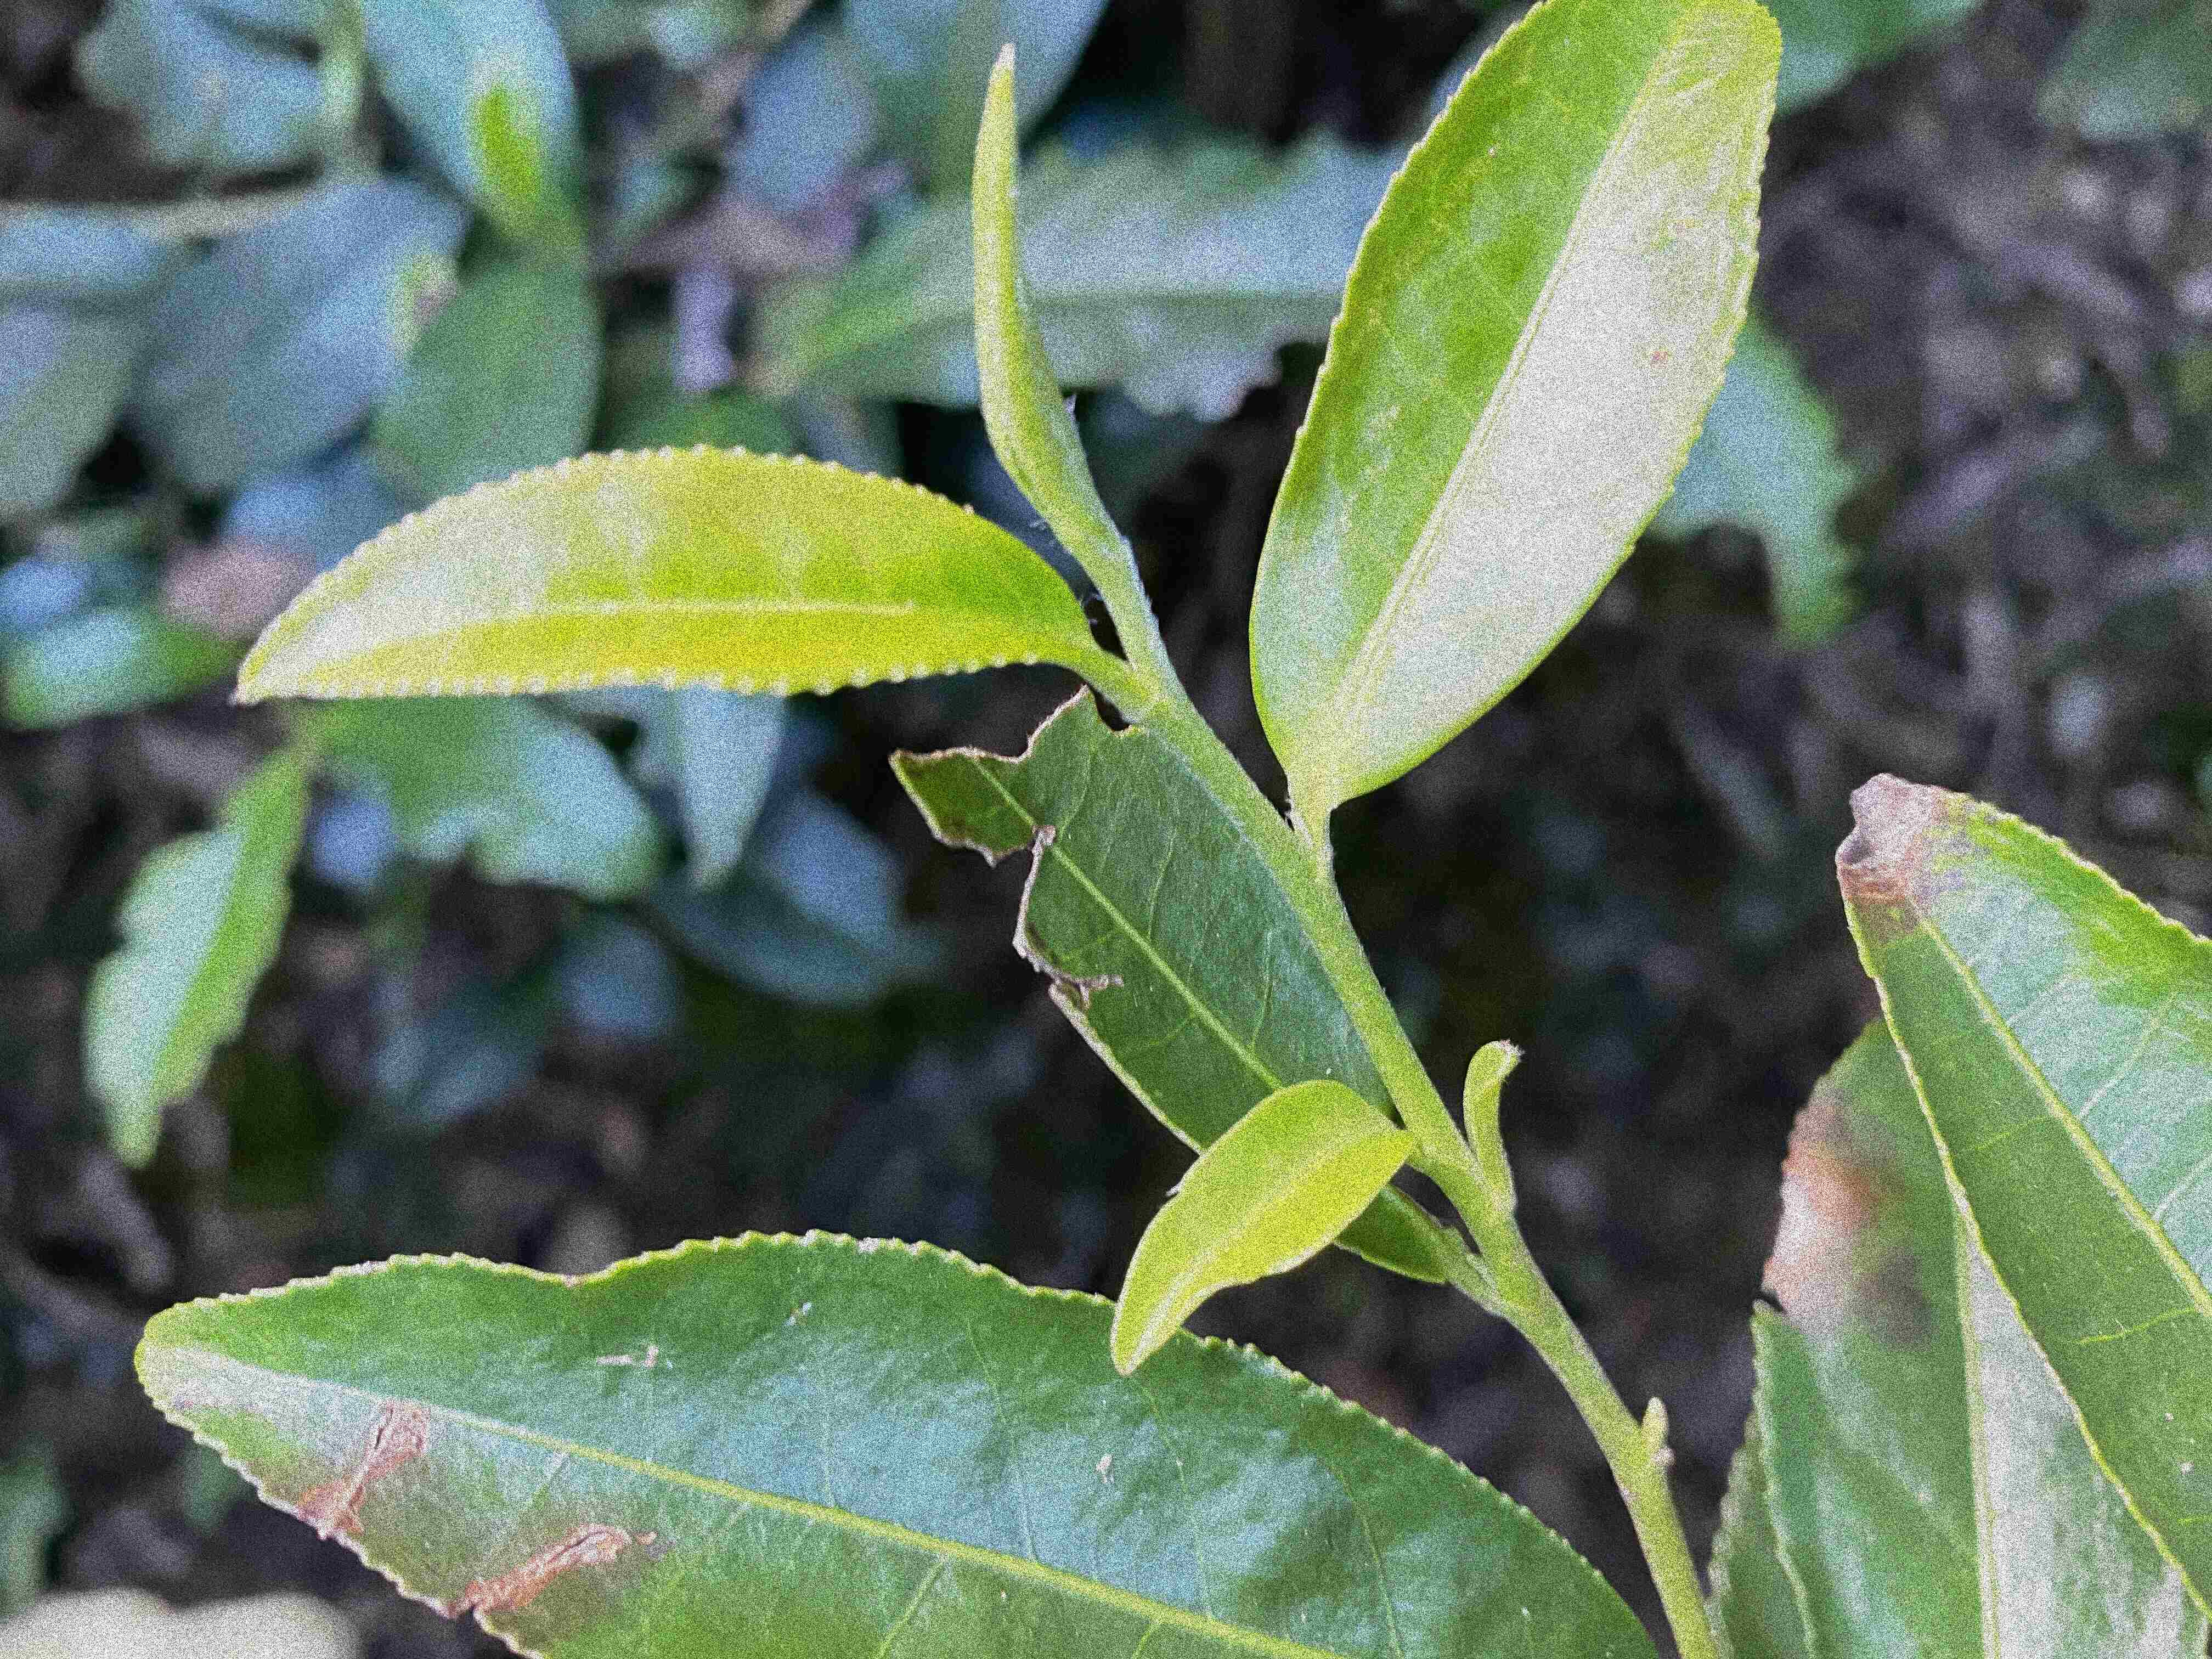chihuo_high: (887, 687, 1468, 1284)
healthy: (233, 439, 1087, 708)
tanju_high: (129, 1223, 1665, 1657), (1705, 1012, 2209, 1656), (1831, 769, 2209, 1617)
tanju_low: (1251, 2, 1789, 798)
